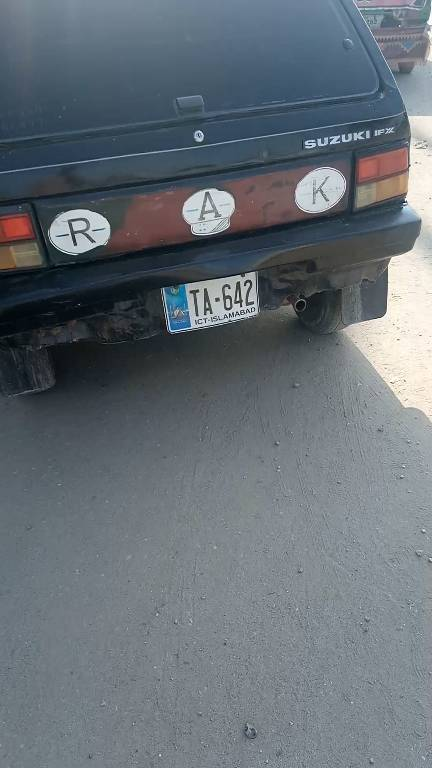number_plate: (158, 277, 264, 330)
